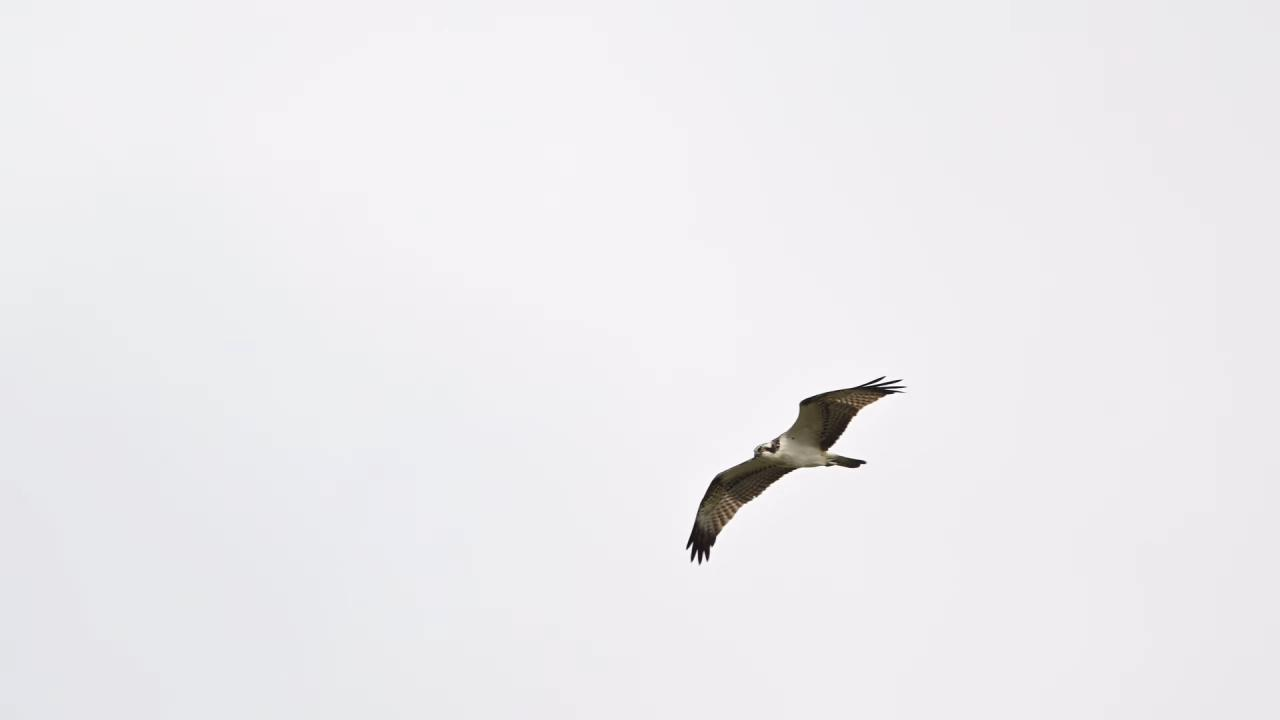Bird: (661, 363, 921, 573)
